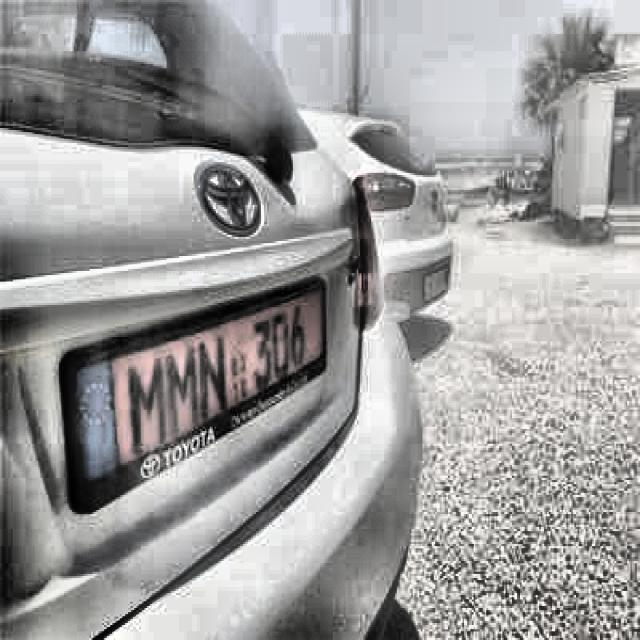license_plate: (66, 289, 314, 465)
